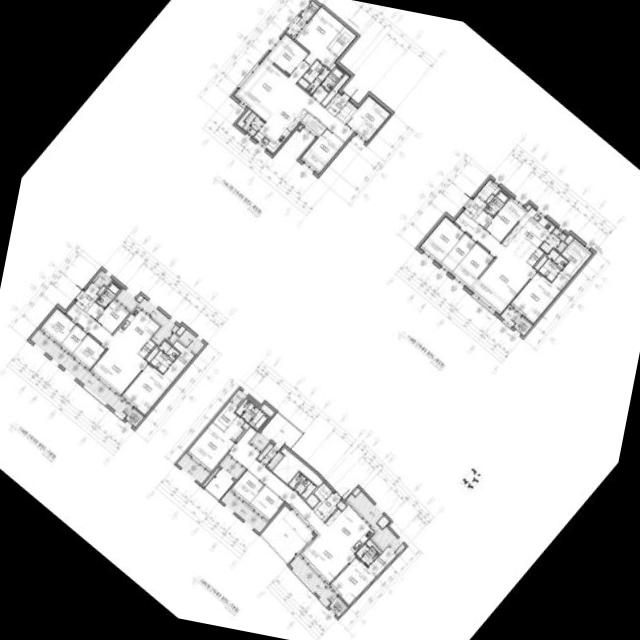background: (0, 0, 640, 640)
space_balconi: (30, 331, 132, 419), (115, 289, 179, 347), (347, 492, 405, 554), (261, 506, 313, 564), (289, 556, 336, 606), (220, 492, 267, 533), (261, 413, 302, 449), (176, 455, 209, 485), (205, 470, 234, 500), (257, 444, 283, 471), (179, 330, 204, 354), (242, 112, 264, 137), (220, 457, 243, 479), (286, 17, 306, 38), (500, 307, 520, 327), (251, 433, 269, 451), (93, 271, 112, 287), (231, 390, 246, 405)
space_bedroom: (510, 271, 572, 324), (187, 417, 244, 472), (294, 7, 344, 69), (122, 364, 172, 416), (330, 557, 375, 605), (419, 217, 464, 264), (346, 96, 391, 142), (301, 129, 344, 174), (451, 244, 494, 289), (485, 198, 526, 242), (266, 35, 307, 76), (39, 309, 76, 345), (249, 486, 284, 522), (71, 336, 105, 370), (231, 471, 264, 505), (96, 300, 129, 334)
space_dressroom: (163, 341, 195, 384), (561, 239, 592, 278), (327, 27, 356, 57), (368, 547, 396, 576), (213, 402, 237, 431)
space_front: (313, 493, 340, 522), (74, 283, 99, 312), (463, 196, 487, 220), (325, 93, 349, 117)
space_kitchen: (254, 97, 307, 154), (502, 208, 555, 263), (325, 502, 374, 554), (113, 308, 160, 355)
space_living_room: (228, 427, 355, 585), (234, 59, 354, 143), (454, 212, 536, 315), (66, 304, 147, 396)
space_other: (272, 449, 323, 487), (440, 234, 476, 273), (321, 75, 349, 107), (60, 326, 87, 355), (300, 113, 326, 137), (477, 180, 500, 202), (336, 101, 357, 123), (313, 483, 332, 503), (202, 468, 219, 488), (86, 303, 104, 320), (475, 211, 492, 228), (311, 86, 328, 103), (139, 340, 155, 358), (527, 249, 543, 267), (237, 110, 251, 128), (236, 423, 249, 442), (366, 540, 381, 554), (146, 346, 159, 362), (534, 255, 547, 271), (305, 494, 319, 508), (260, 405, 274, 417), (377, 516, 389, 529), (336, 501, 346, 511), (564, 235, 574, 245), (176, 326, 185, 336), (352, 488, 360, 497), (97, 286, 105, 295), (486, 195, 494, 204), (329, 63, 336, 71), (136, 295, 143, 302), (525, 205, 531, 211), (298, 126, 302, 130)
space_outdoor_room: (328, 597, 348, 618), (300, 1, 319, 21), (125, 409, 144, 428), (513, 317, 532, 336)
space_toilet: (297, 61, 330, 94), (235, 399, 268, 431), (538, 250, 568, 282), (150, 341, 179, 374), (288, 473, 316, 499), (539, 228, 567, 254), (484, 191, 509, 217), (96, 283, 120, 309), (320, 67, 344, 92), (356, 545, 379, 567)
